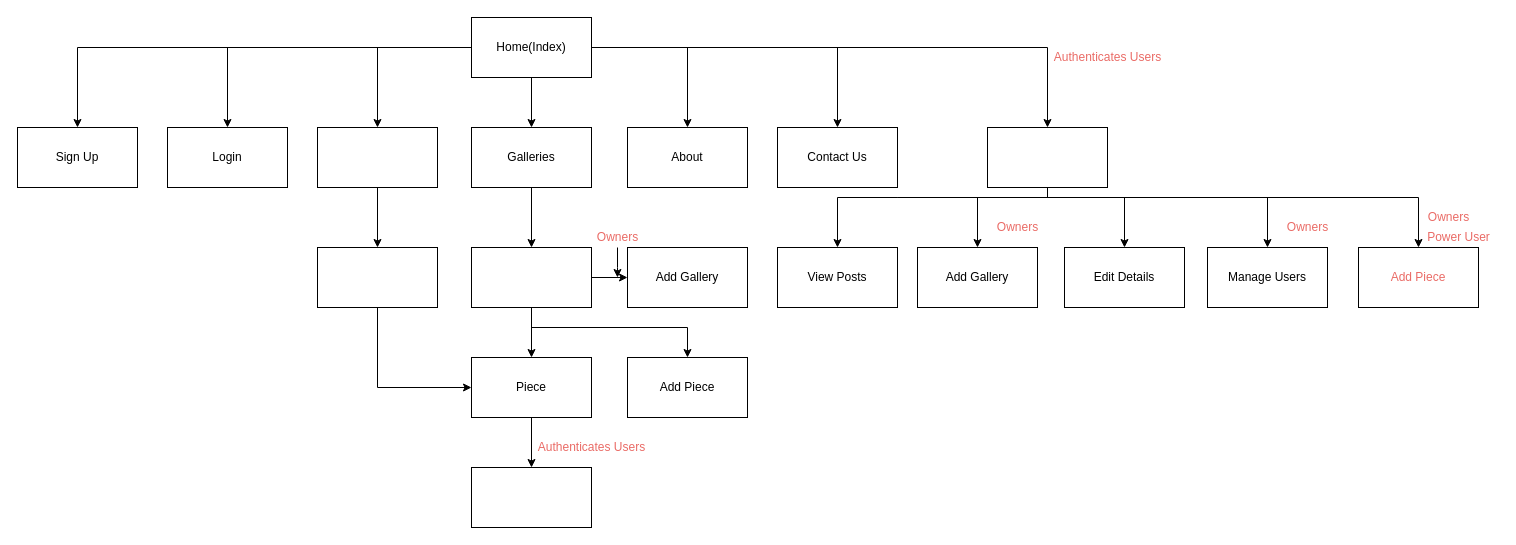
Some shapes in this 1516 by 545 pixel diagram are drawn without their labels. Here are the shapes that lost their labels. From the top down, the centre of each, then its label:
At (x=377, y=157): "Categories".
At (x=1047, y=157): "My Account".
At (x=377, y=277): "Category".
At (x=531, y=277): "Gallery".
At (x=531, y=497): "Add Review".
